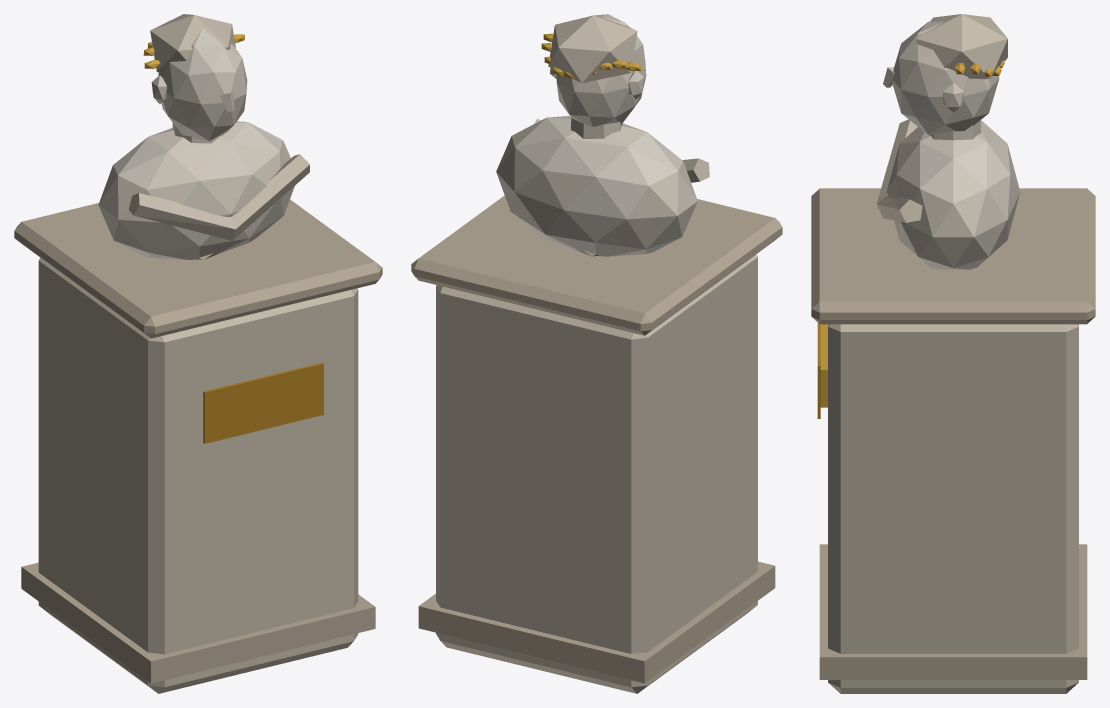
Rendered from kit-paris-decor-3.glb.
3 views of the same model, side by side, from view 1: azimuth 30°, elevation 25°; view 2: azimuth 150°, elevation 25°; view 3: azimuth 270°, elevation 25° (orthographic). The views are drawn at different scales.
Parts seen in each view (by area): view 1: kit-paris-decor-3; view 2: kit-paris-decor-3; view 3: kit-paris-decor-3.
Boxes of the visible parts, x1=… form: kit-paris-decor-3: x1=14, y1=14, x2=382, y2=693; kit-paris-decor-3: x1=411, y1=14, x2=782, y2=693; kit-paris-decor-3: x1=811, y1=14, x2=1095, y2=693.
Size of the model in its own units: 0.68 by 1.67 by 0.68.
